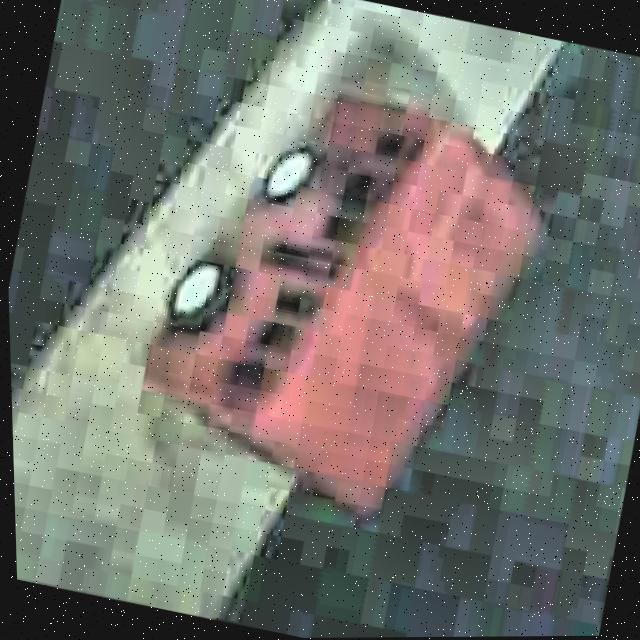bus: (111, 58, 574, 539)
